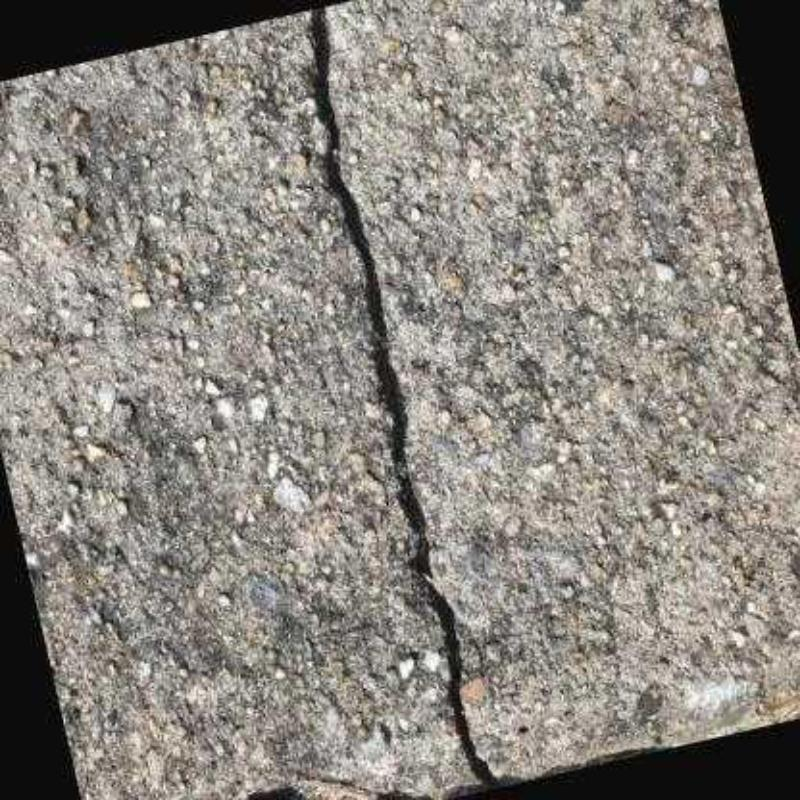pothole: (309, 7, 496, 790)
